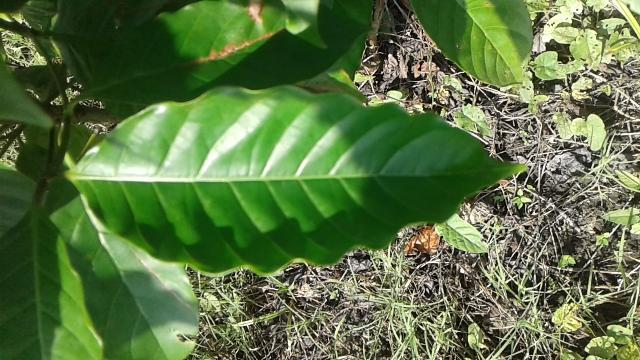healthy: (70, 86, 526, 278)
